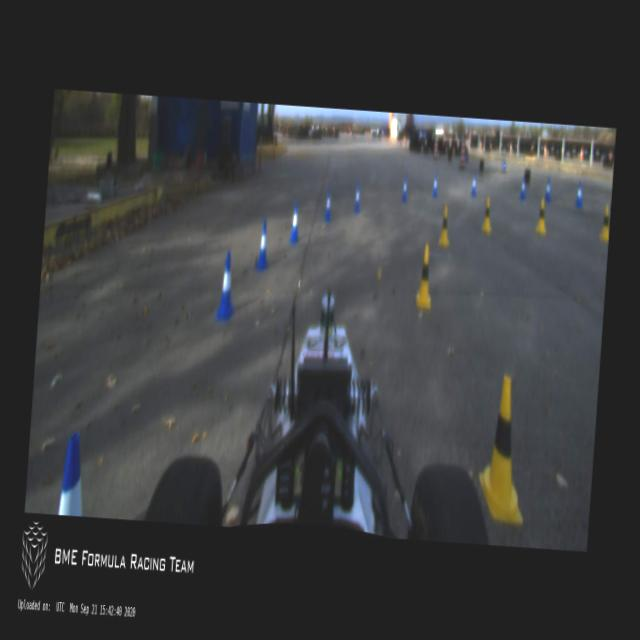blue_cone: (57, 432, 88, 516), (215, 250, 238, 320), (254, 220, 272, 272), (289, 203, 301, 245), (322, 189, 332, 221), (574, 182, 584, 208), (544, 177, 552, 202), (354, 186, 361, 212), (470, 172, 478, 194), (431, 173, 438, 196), (519, 177, 526, 200), (402, 176, 408, 200)
yellow_cone: (475, 374, 532, 524), (414, 242, 435, 310), (438, 204, 452, 248), (534, 195, 548, 233), (481, 195, 494, 234), (598, 204, 610, 242)
